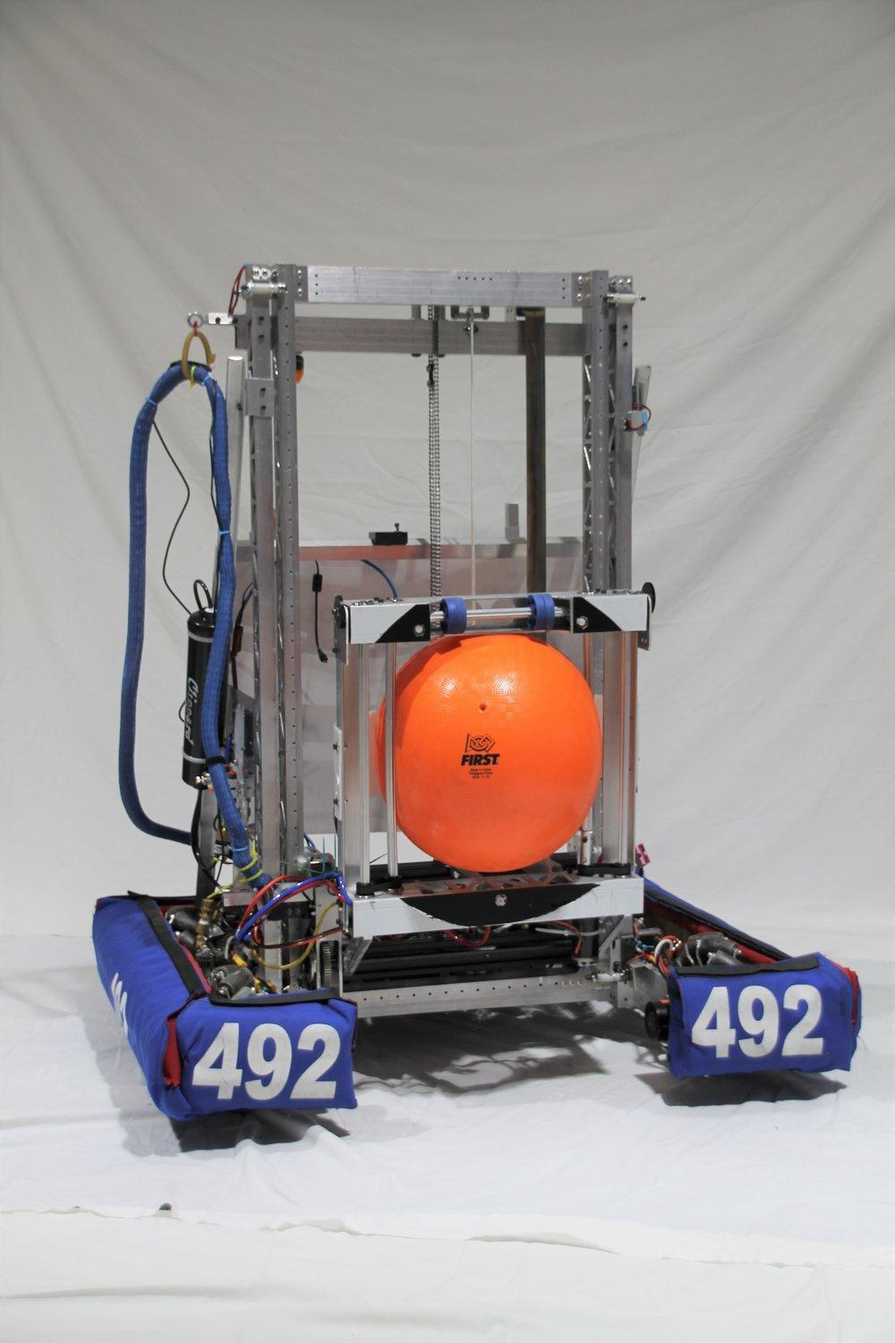robot: (84, 242, 870, 1150)
